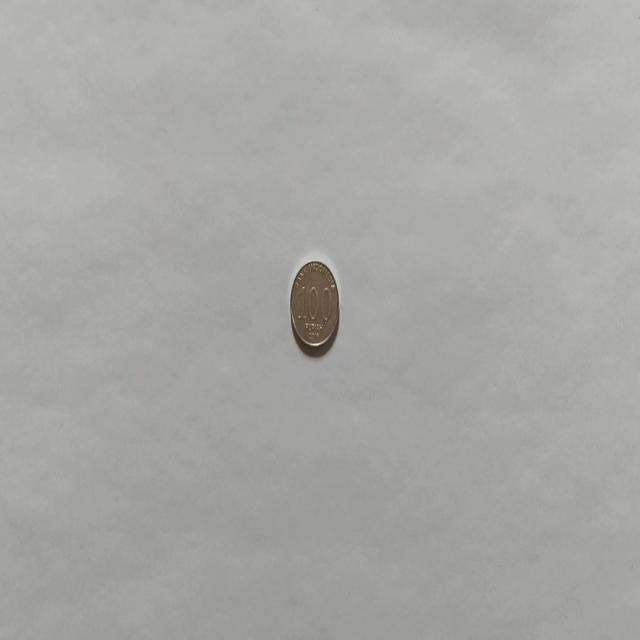seratus rupiah: (288, 258, 339, 352)
